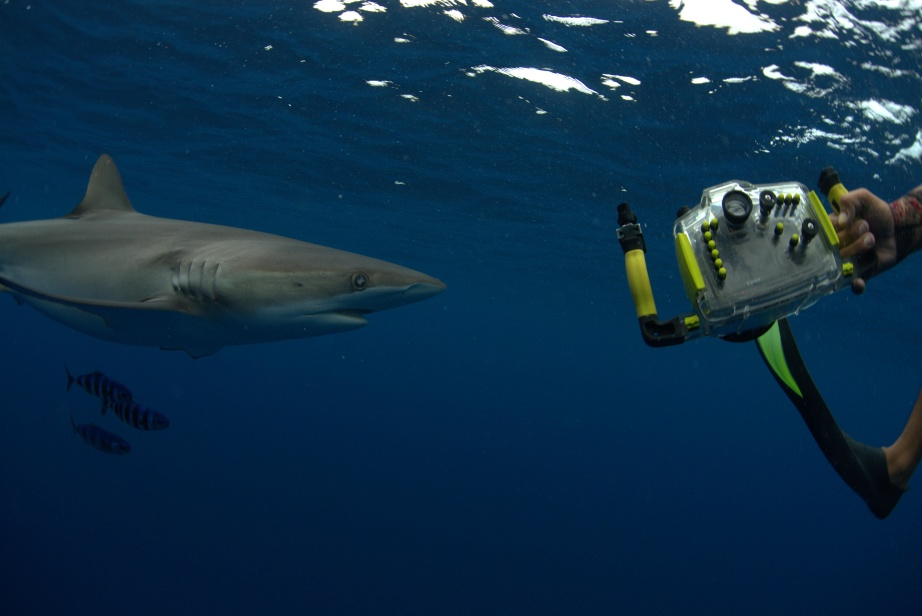Sedoso: (1, 149, 456, 371)
